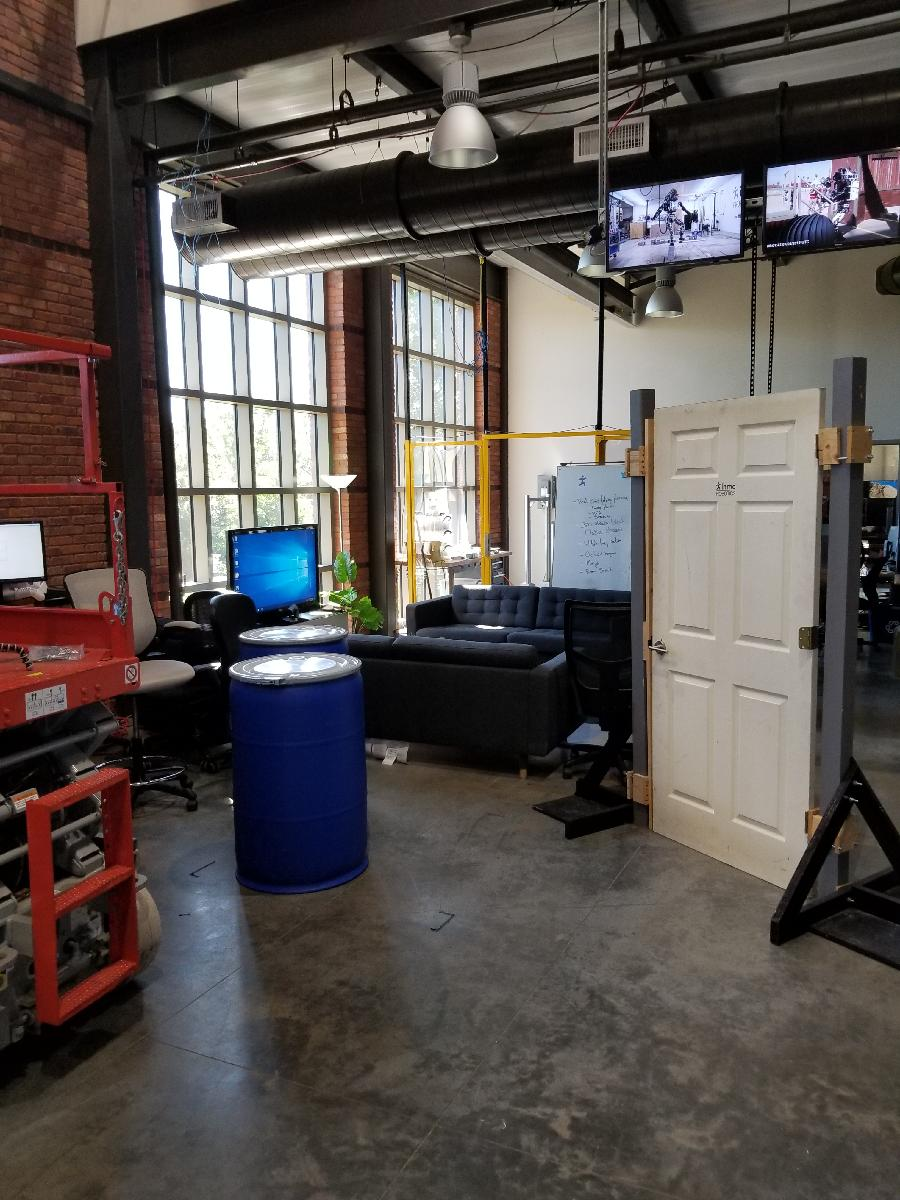door: (647, 382, 830, 905)
doorHandle: (646, 641, 677, 662)
